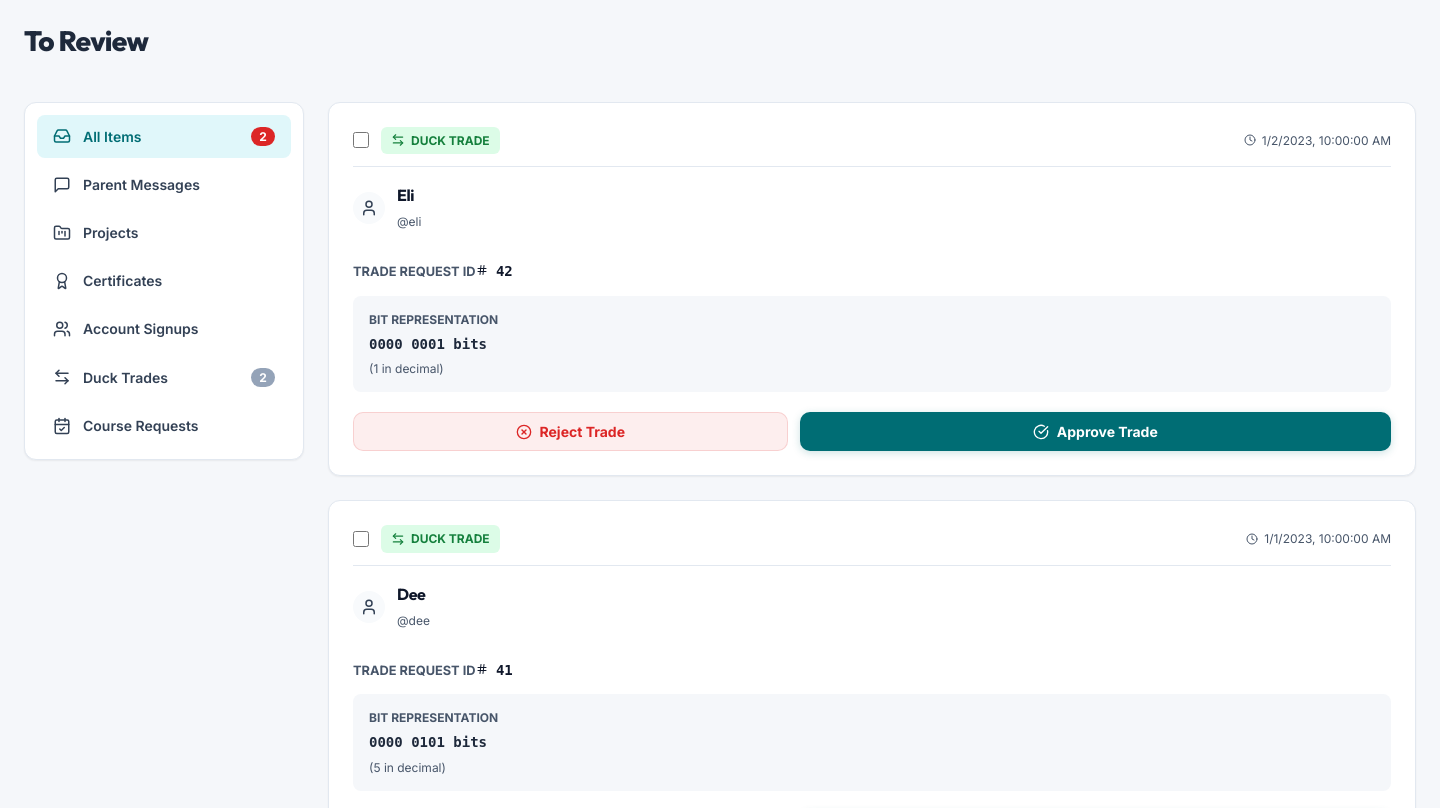
ToReview Component › review actions › duck trades › confirms once with the count before a bulk approval and clears the selection
Check: the text "All Items" is shown, box [83,128,142,145]
Click the text "Duck Trades" at (126, 377), box [83,369,168,386]
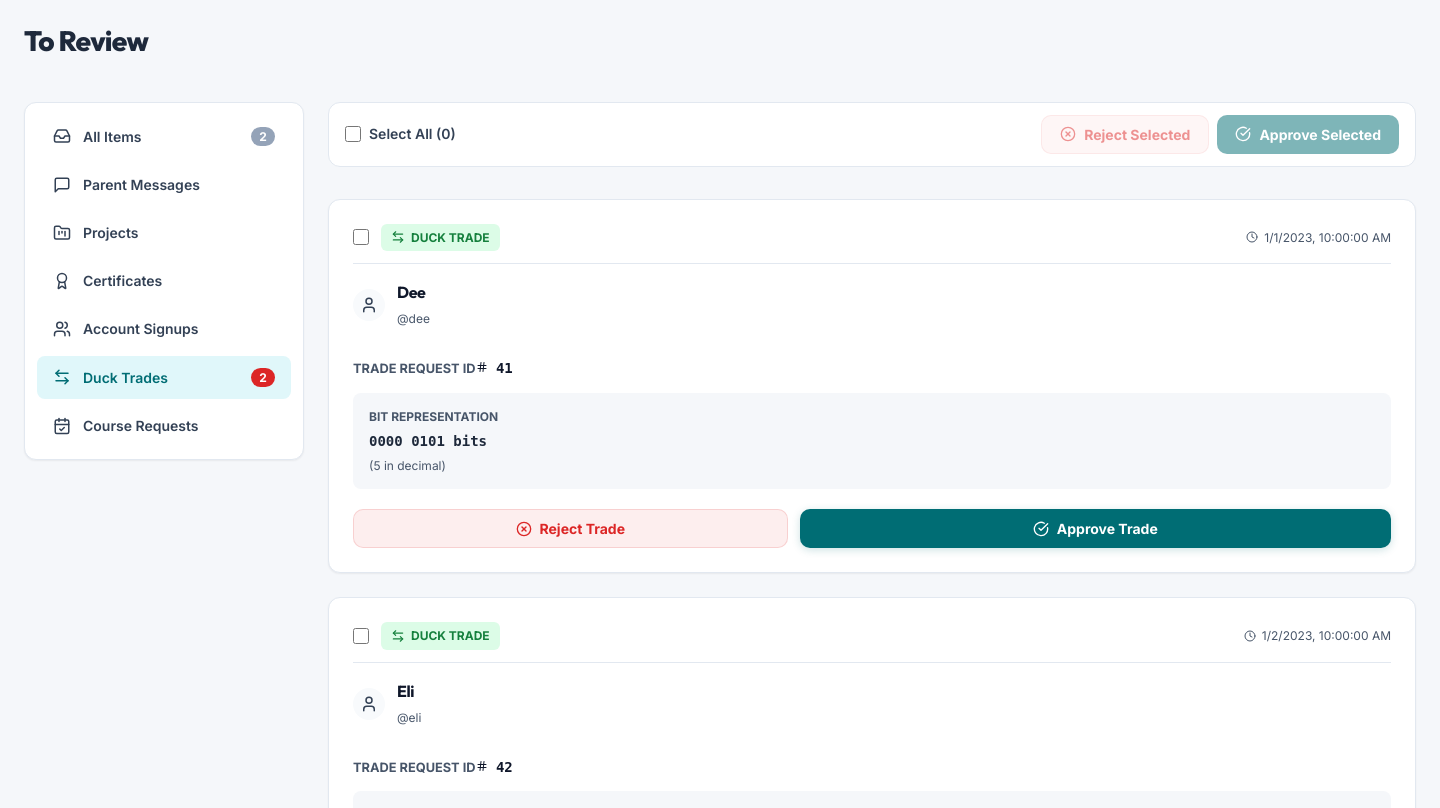
Click the checkbox labelled "Select All (0)" at (353, 134), box [345,126,361,142]
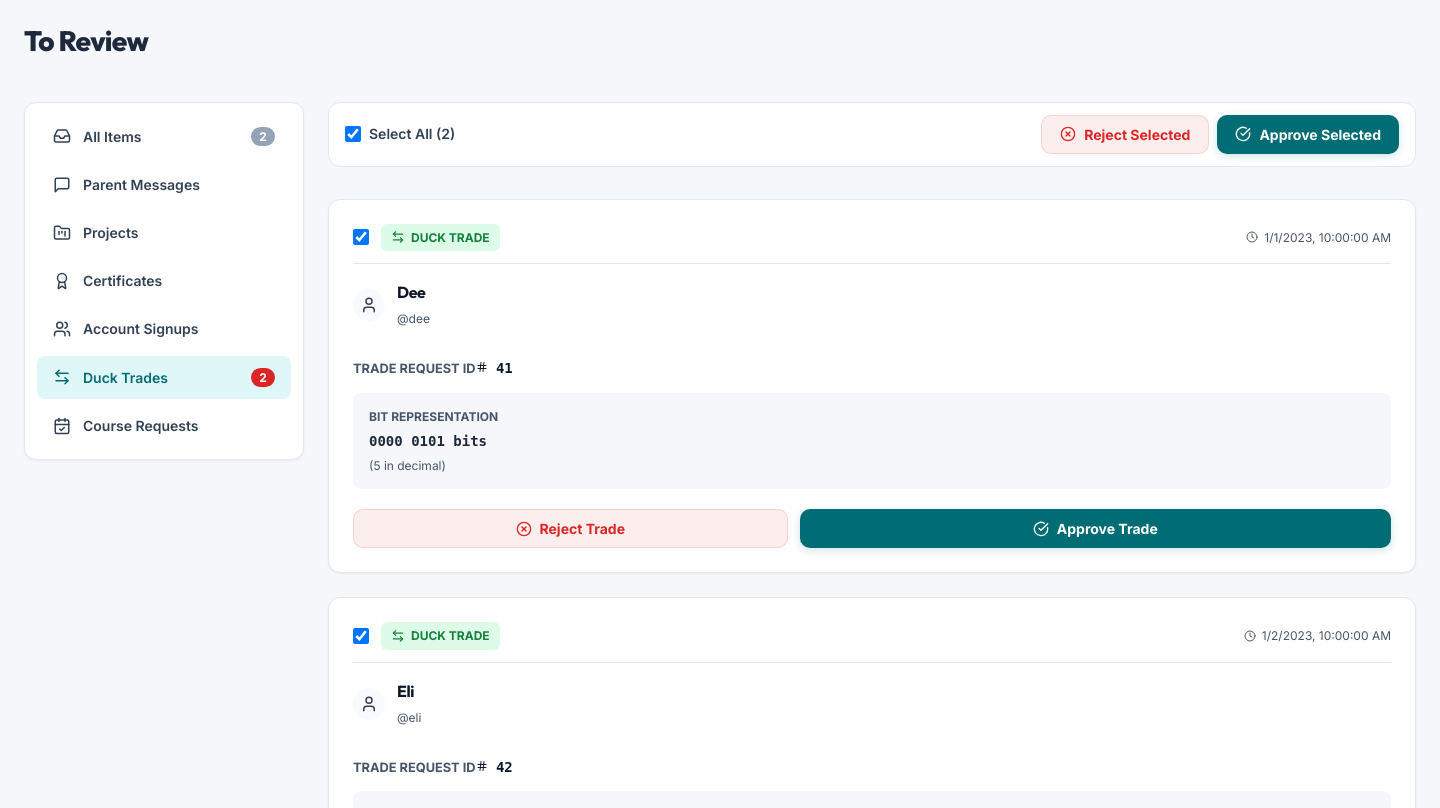
Check: the text "Select All (2)" is shown, box [369,123,455,145]
Click the button "Approve Selected" at (1308, 134), box [1217,115,1399,154]
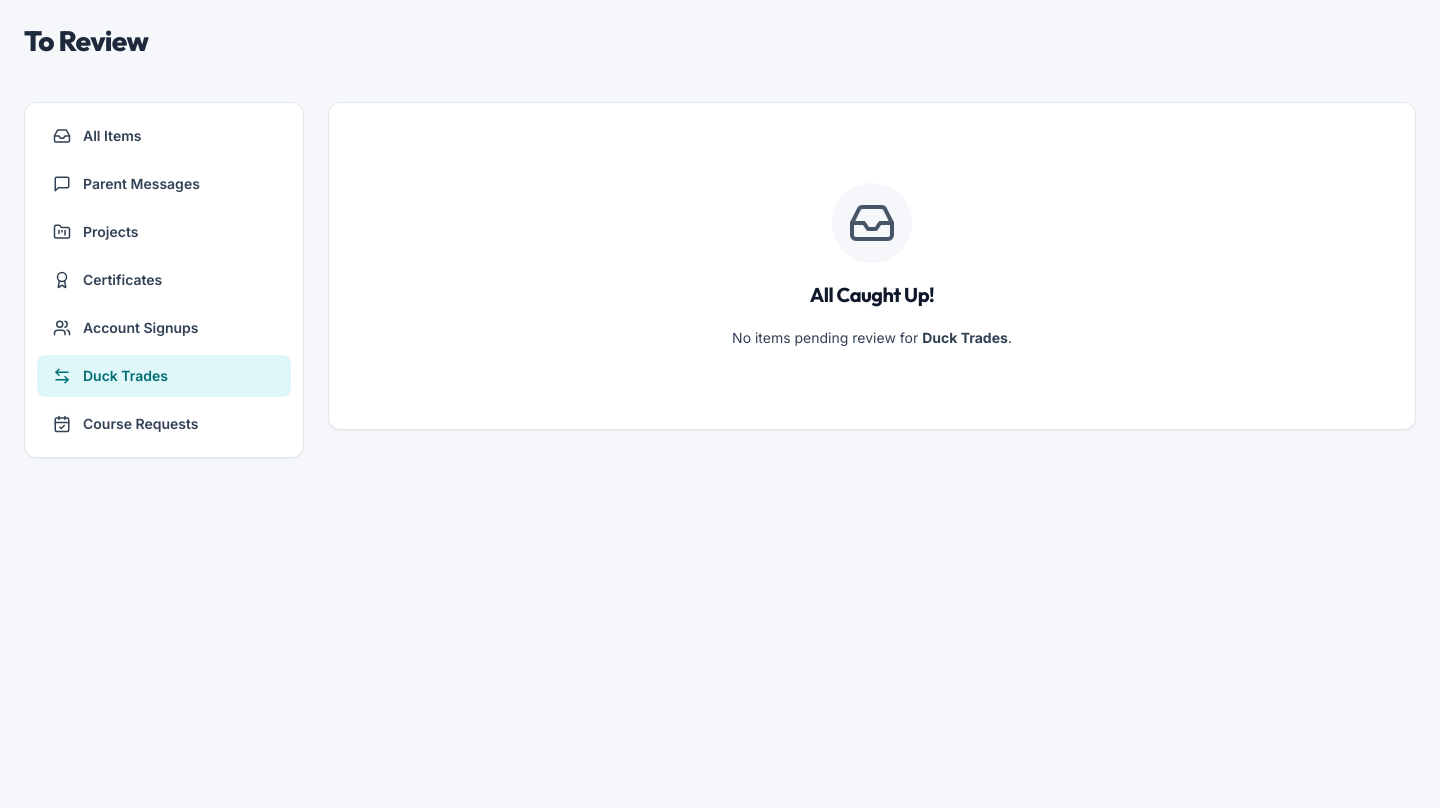
Check: the text "@dee" is gone
Check: the text "@eli" is gone
